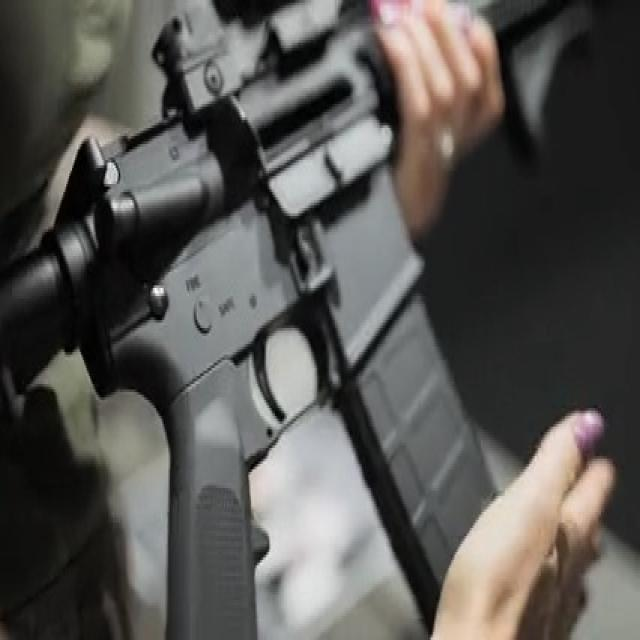Gun_Holder: (39, 11, 613, 640)
